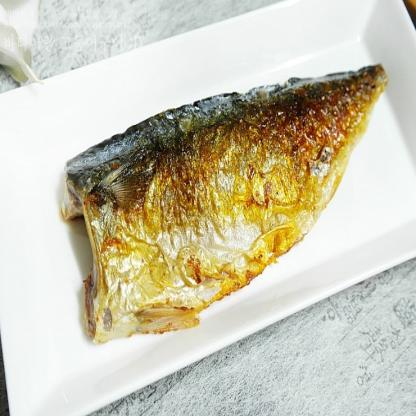Peixe: (45, 38, 393, 359)
